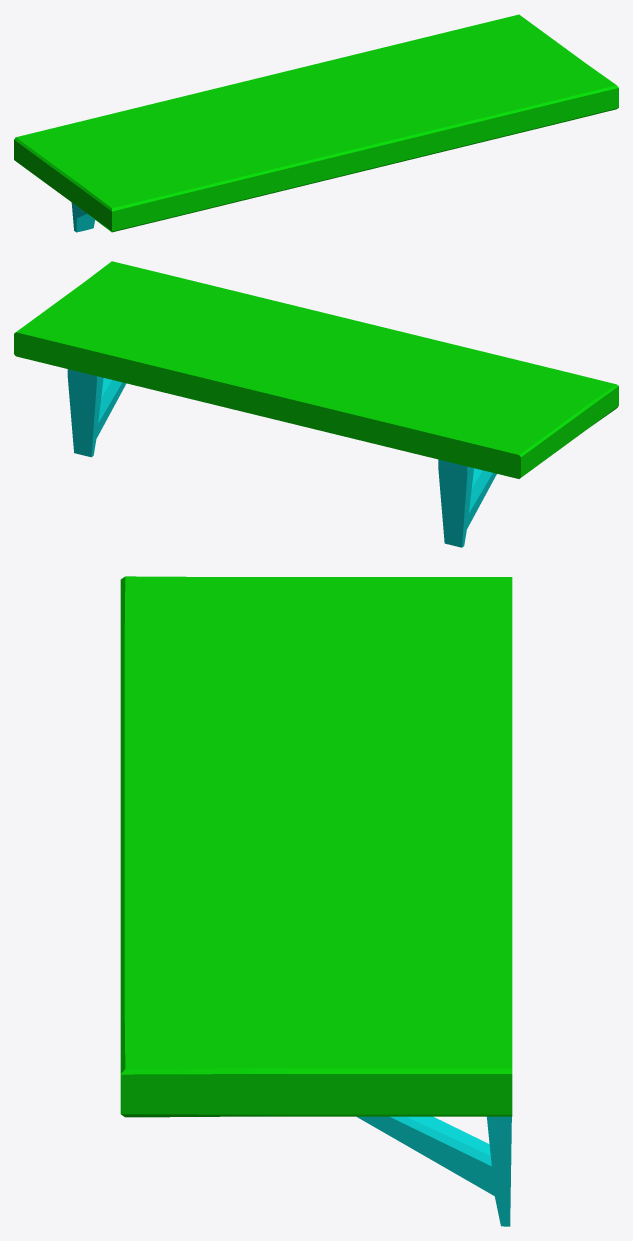
Rendered from shelf.fbx.
The picture shows the model from 3 angles, top to bottom: view 1: azimuth 30°, elevation 25°; view 2: azimuth 150°, elevation 25°; view 3: azimuth 270°, elevation 25°; orthographic projection. The views are drawn at different scales.
Visible parts, largest first — view 1: shelf; view 2: shelf; view 3: shelf.
Part boxes in pixels (x1,y1,x2,y2): shelf: [14, 14, 618, 232]; shelf: [14, 261, 618, 547]; shelf: [120, 576, 512, 1226].
Bounding box in the file's own units: 13 × 2.63 × 4.35.
